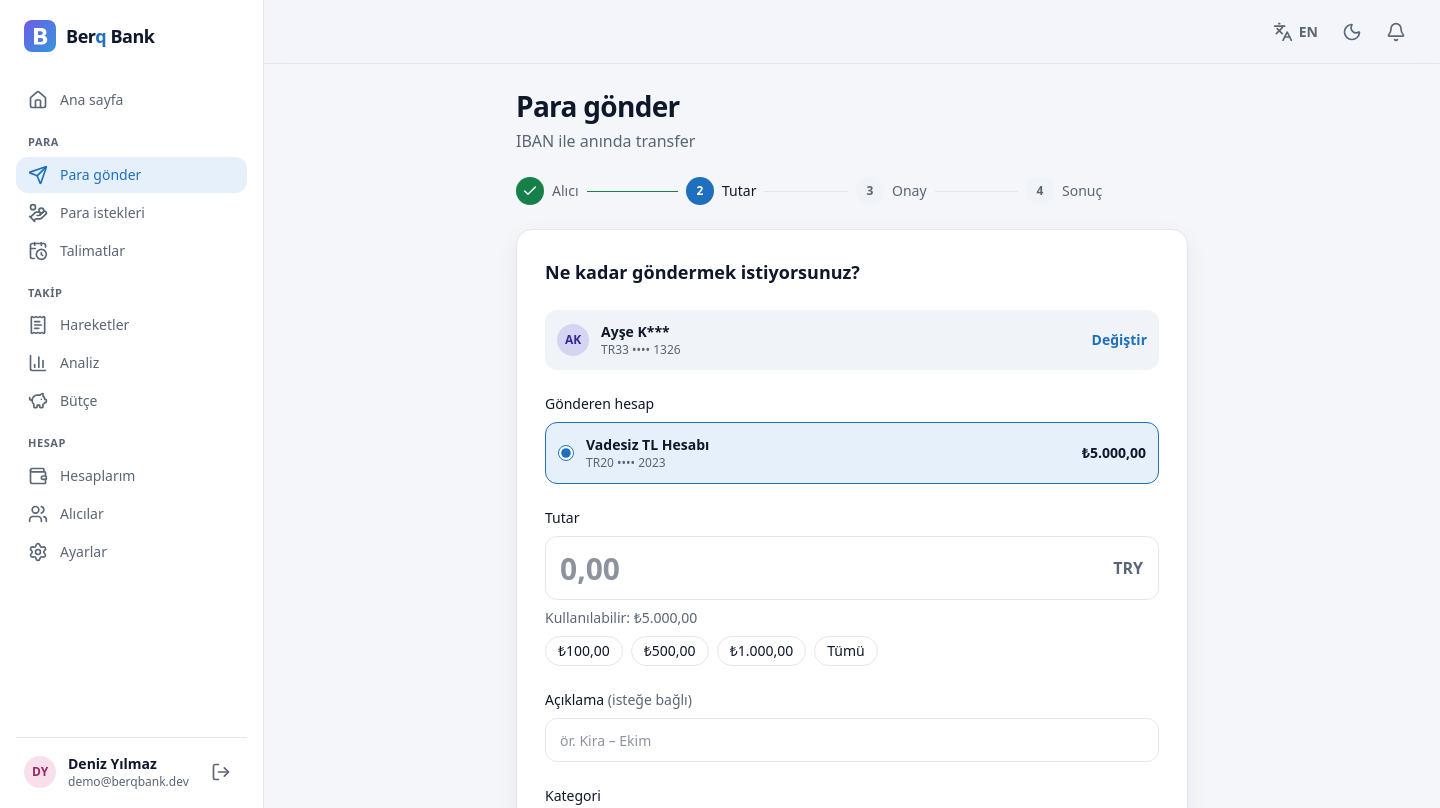
Scenario: scheduling from the transfer wizard › creates a monthly schedule instead of sending immediately
Type "17.500" into the field labelled "Tutar". click: x=852, y=568
box: [545, 536, 1159, 600]
(page scrolled)
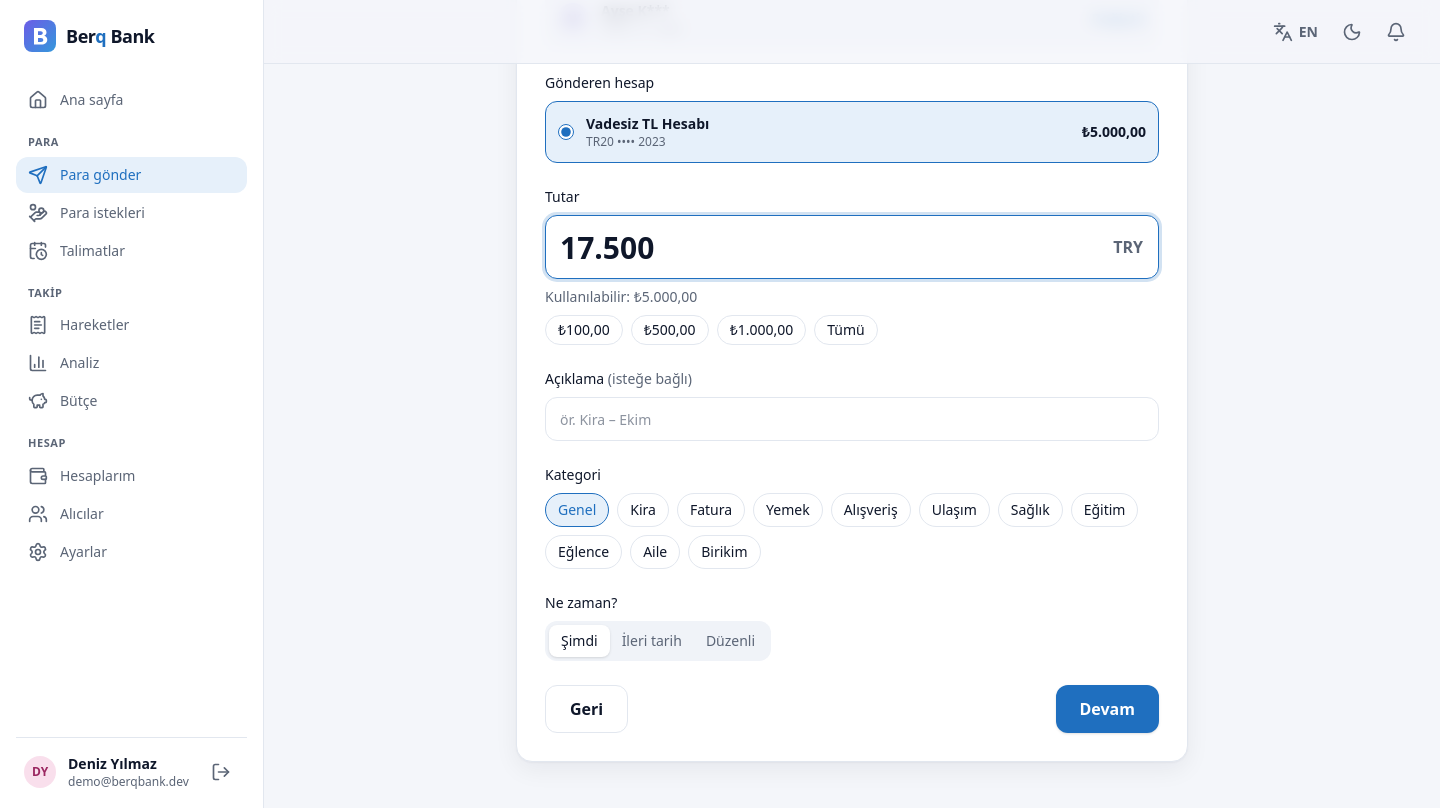
Click the radio button labelled "Düzenli". click: x=730, y=641
box: [694, 625, 767, 657]
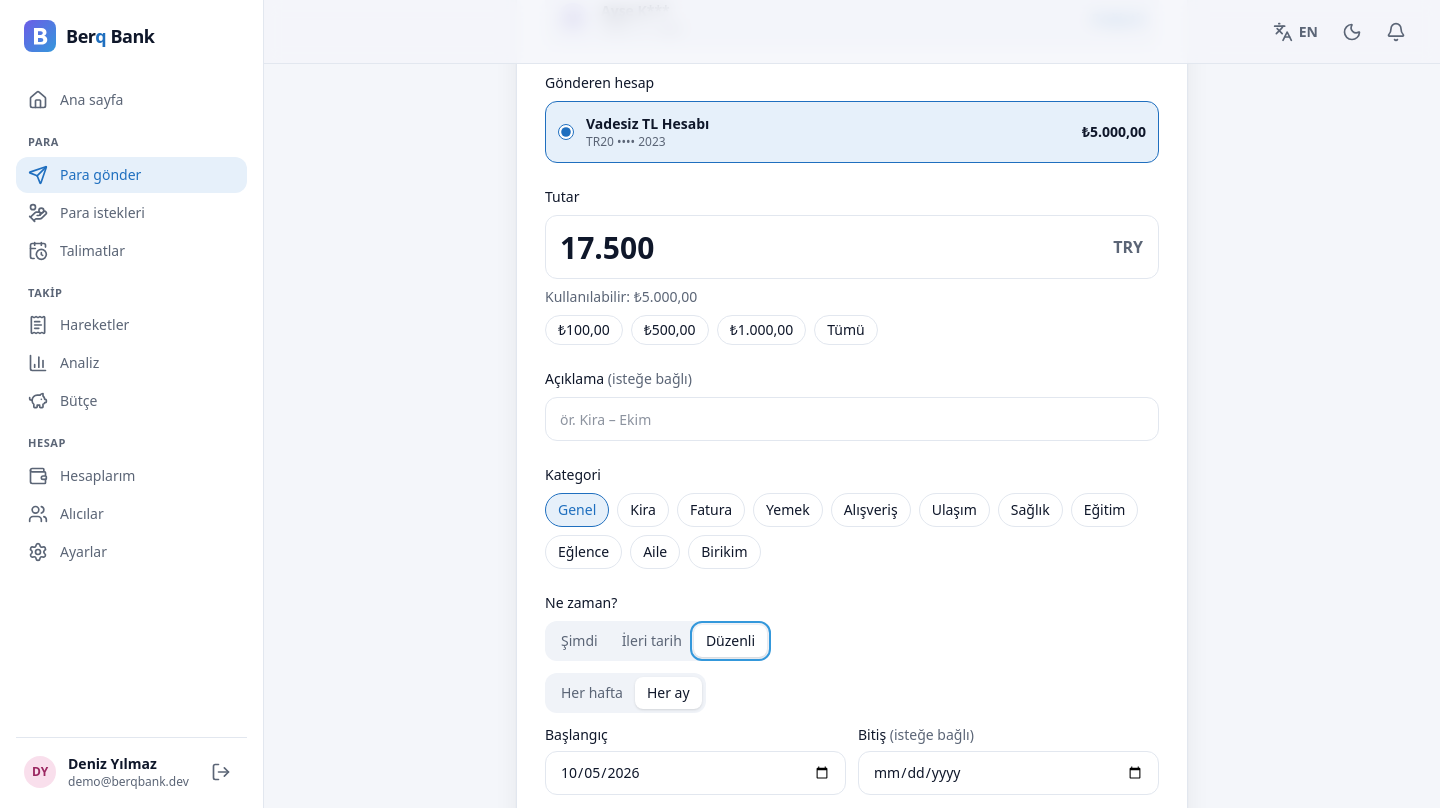
Click the radio button labelled "Her ay". click: x=668, y=693
box: [635, 677, 702, 709]
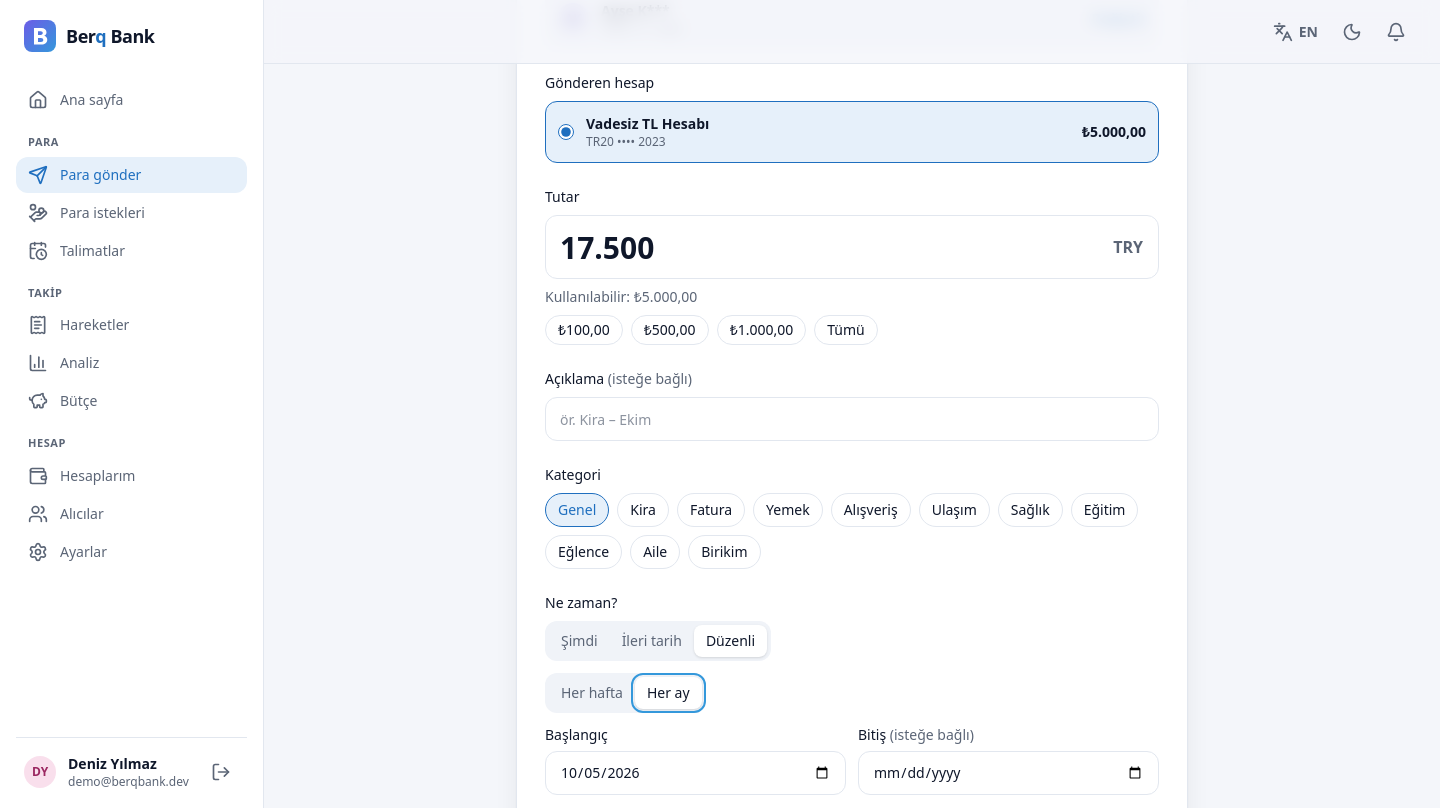
Type "2026-10-10" into the date field labelled "Başlangıç". click: x=696, y=773
box: [545, 751, 846, 795]
(page scrolled)
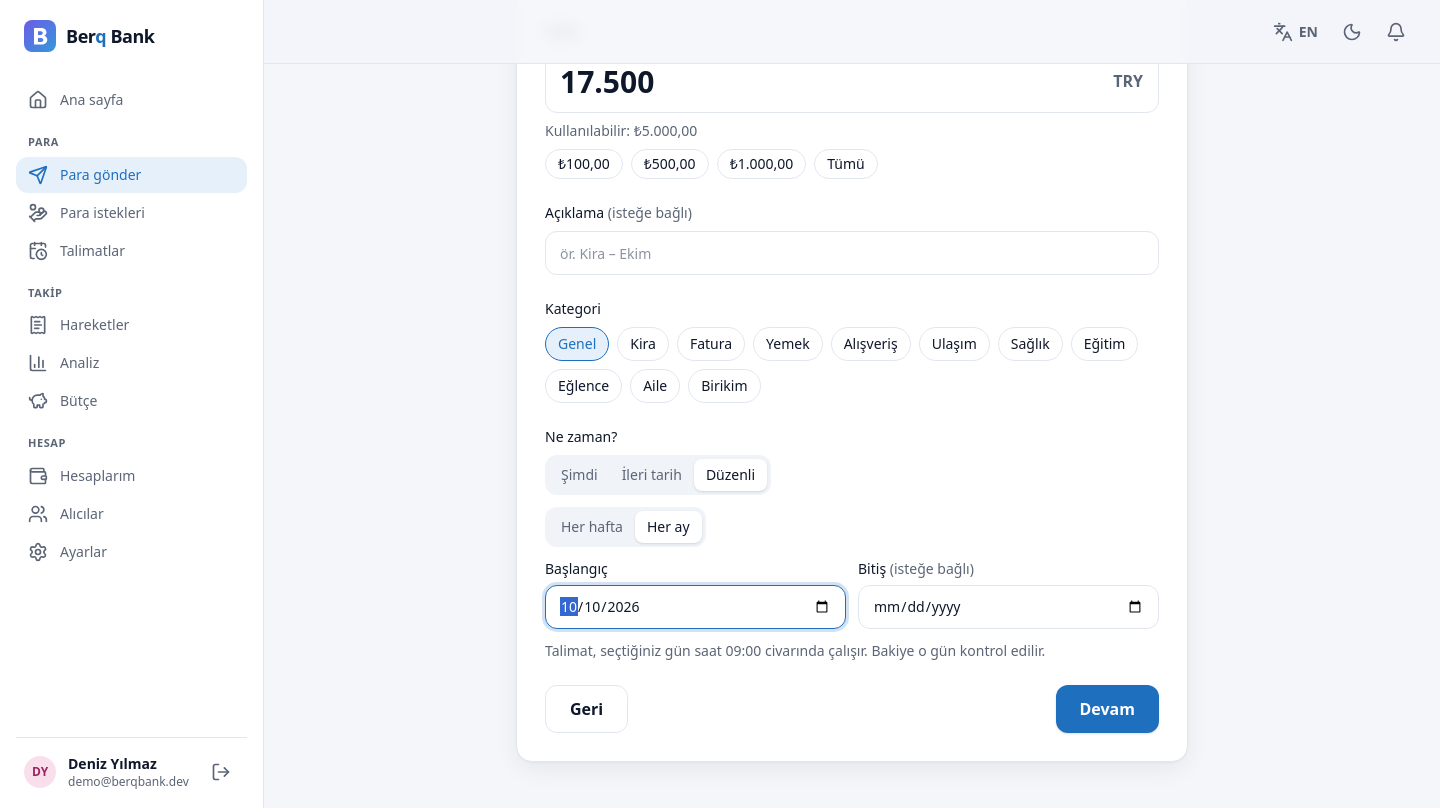
Click the button "Devam". click: x=1107, y=709
box: [1056, 685, 1159, 733]
(page scrolled)
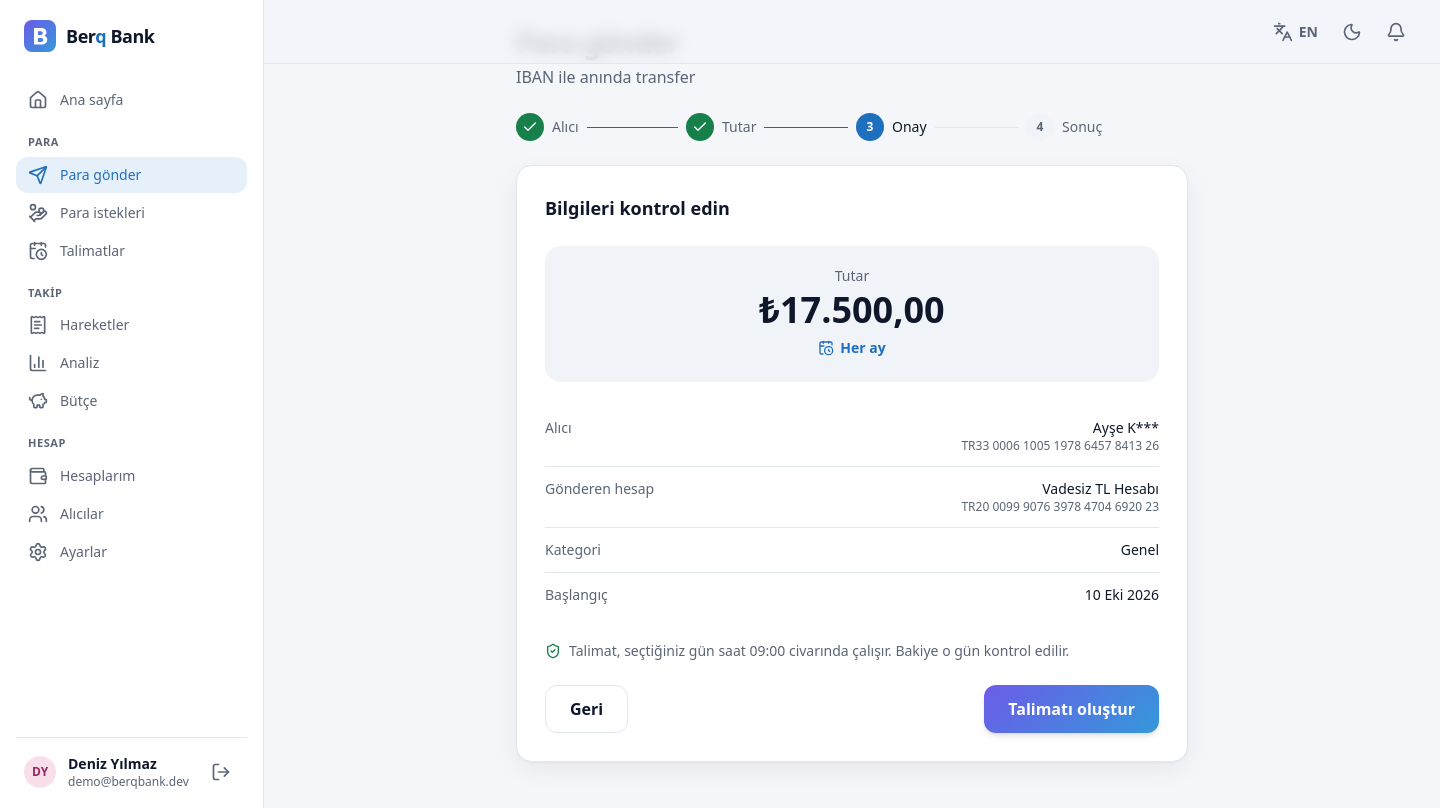
Check: the text "Her ay" is shown, box [818, 338, 886, 358]
Click the button "Talimatı oluştur". click: x=1072, y=709
box: [984, 685, 1159, 733]
(page scrolled)
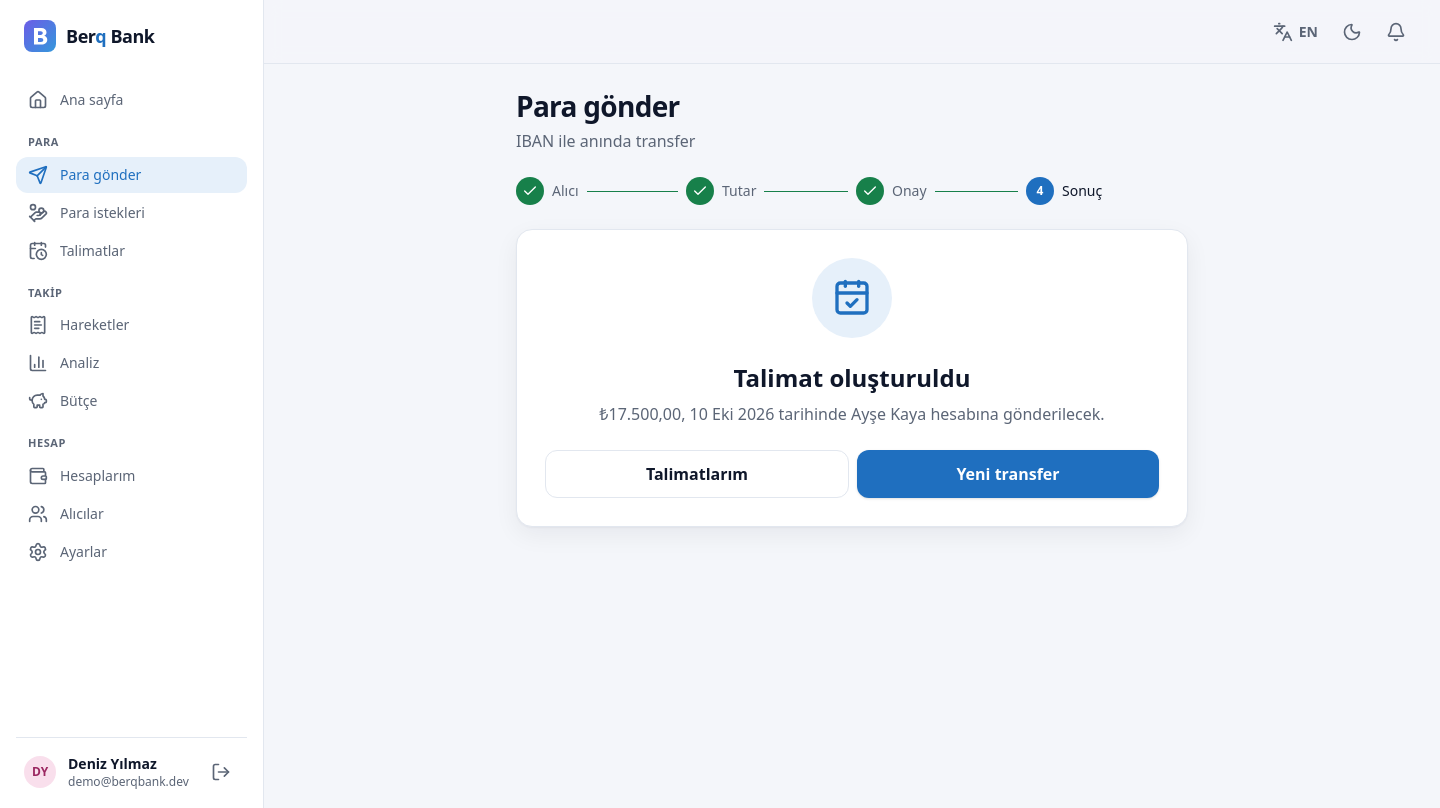
Check: the heading "Talimat oluşturuldu" is shown, box [734, 361, 970, 394]
